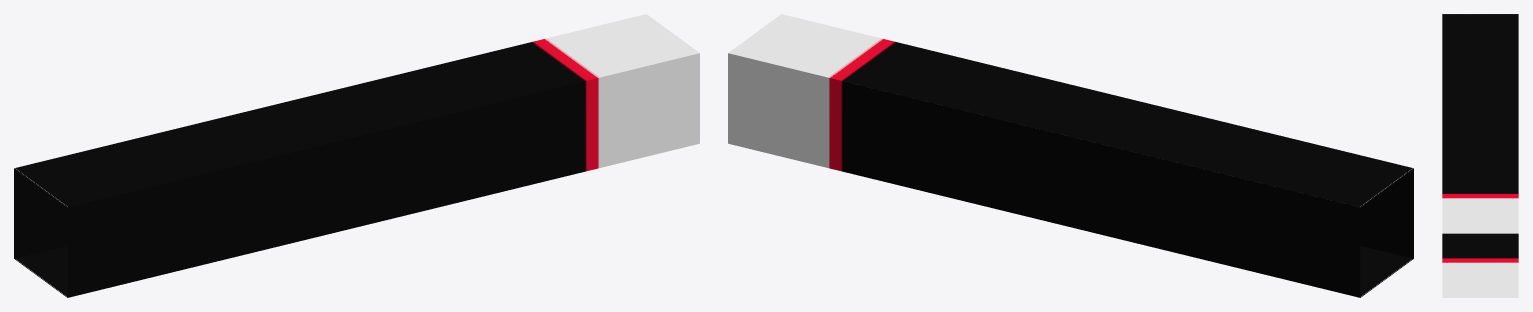
The model's file is trapperzapper.fbx.
The picture shows the model from 3 angles, left to right: view 1: azimuth 30°, elevation 25°; view 2: azimuth 150°, elevation 25°; view 3: azimuth 270°, elevation 25°; orthographic projection. The views are drawn at different scales.
Visible parts, largest first — view 1: pCube1; view 2: pCube1; view 3: pCube1.
Part boxes in pixels (x1=…): pCube1: x1=14, y1=14, x2=699, y2=297; pCube1: x1=728, y1=14, x2=1413, y2=297; pCube1: x1=1442, y1=14, x2=1518, y2=297.
Size of the model in its own units: 0.808 by 0.1105 by 0.1184.
